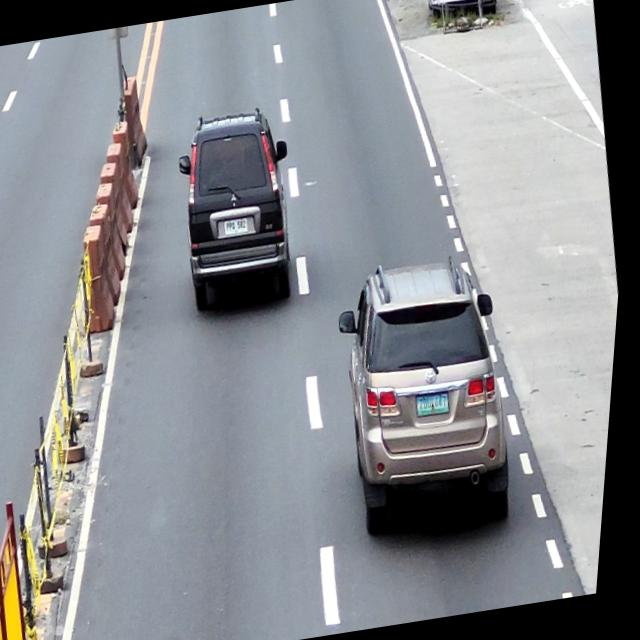Car: (322, 248, 540, 549), (166, 104, 316, 316)
License-Plate: (422, 391, 457, 418), (226, 216, 254, 237)
